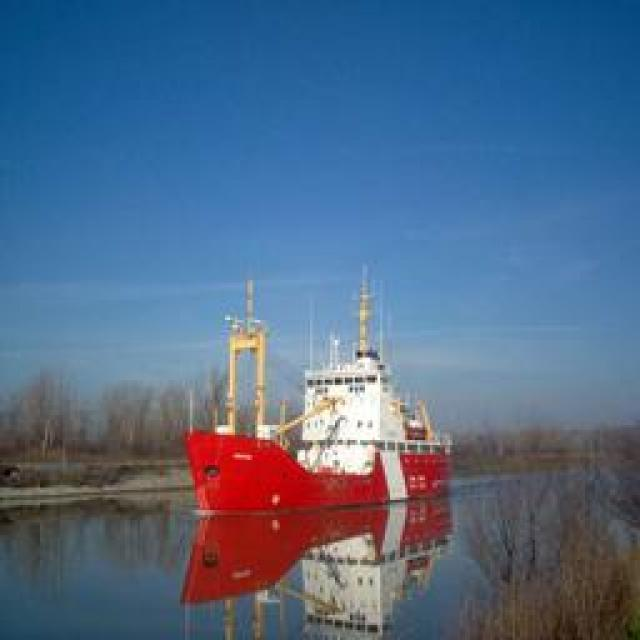CIV_Ship: (186, 254, 472, 616)
